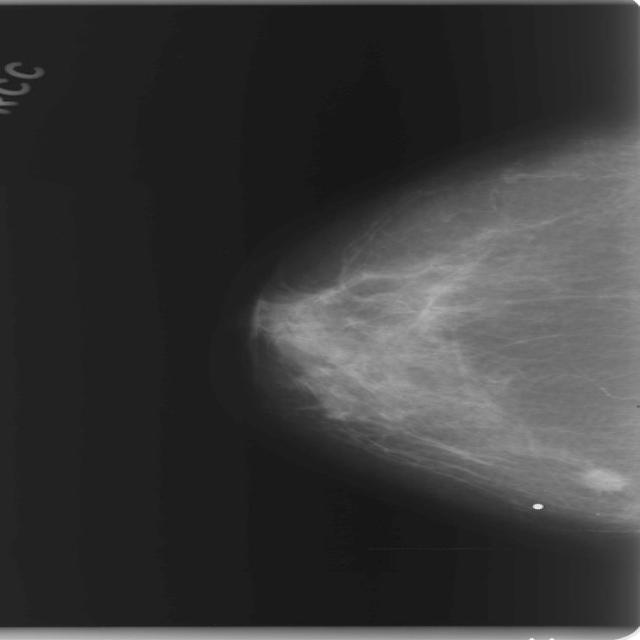tumour: (574, 466, 626, 492)
